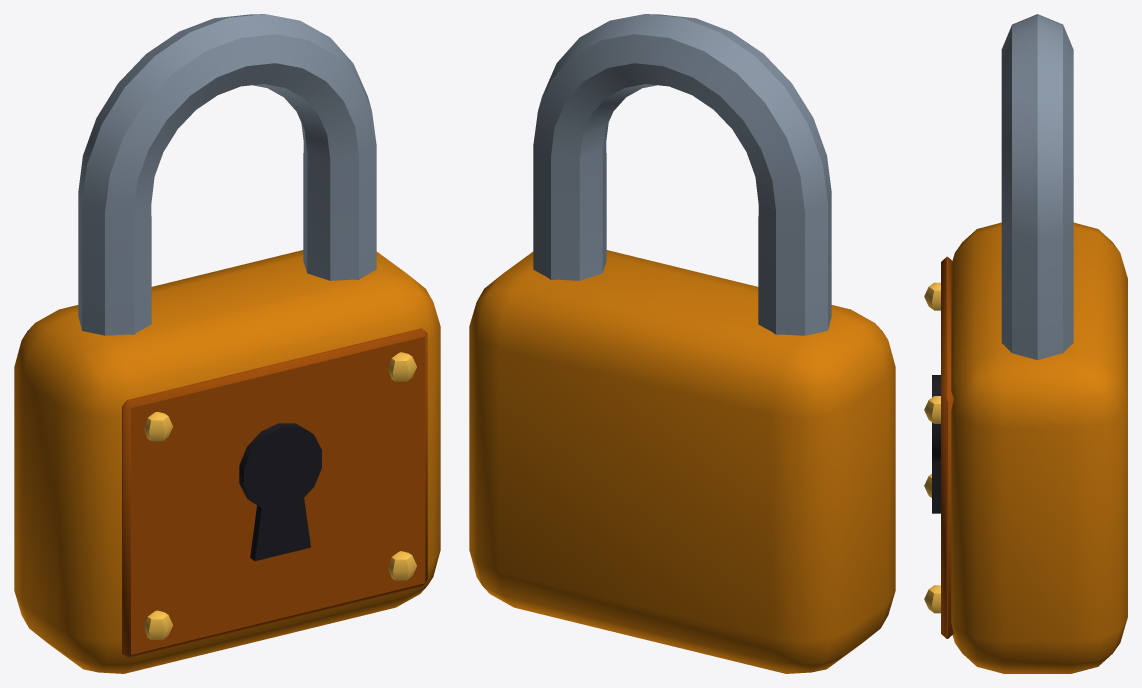
File: Lock.fbx
3 views of the same model, side by side, from view 1: azimuth 30°, elevation 25°; view 2: azimuth 150°, elevation 25°; view 3: azimuth 270°, elevation 25° (orthographic). The views are drawn at different scales.
Parts seen in each view (by area): view 1: Lock; view 2: Lock; view 3: Lock.
Part boxes in pixels (x1,y1,x2,y2): Lock: (14, 14, 440, 673); Lock: (469, 14, 895, 673); Lock: (924, 14, 1127, 673).
Bounding box in the file's own units: 1.6 × 2.47 × 0.79.
